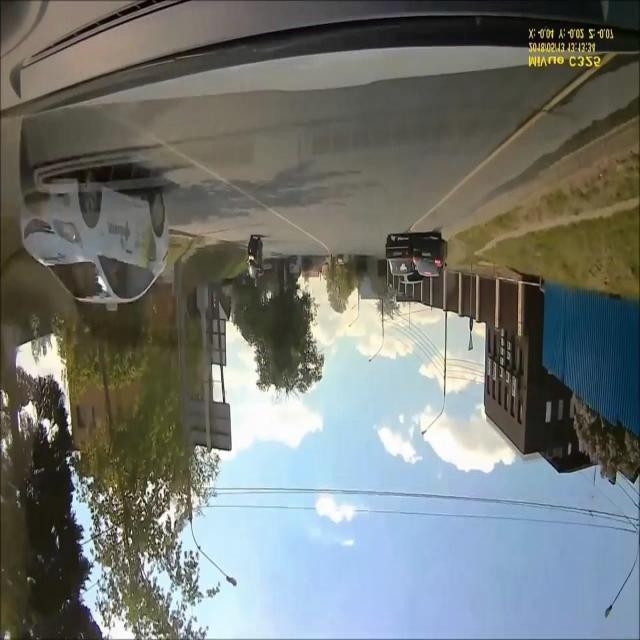vehicle: (378, 225, 454, 298)
